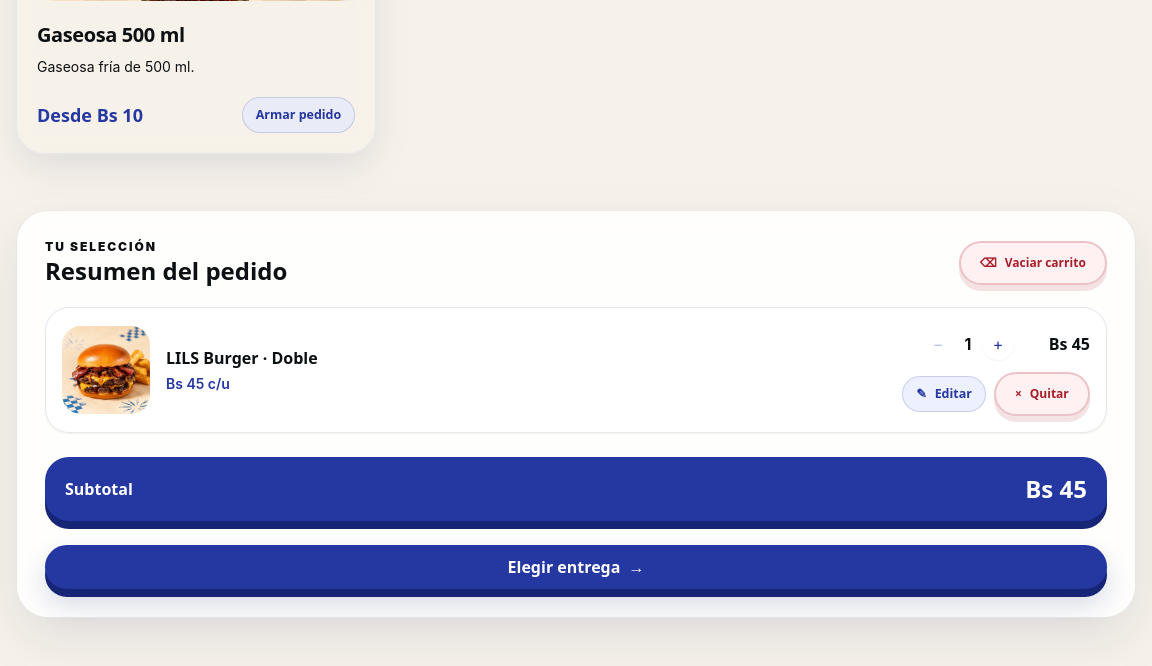
Test: OrderFlow: navegación móvil entre carrito y entrega › sube al inicio de las opciones después de elegir entrega
(page scrolled)
Step 1. Click the button "Elegir entrega →" → point(576, 567), box 45,545 -> 1107,589
(page scrolled)
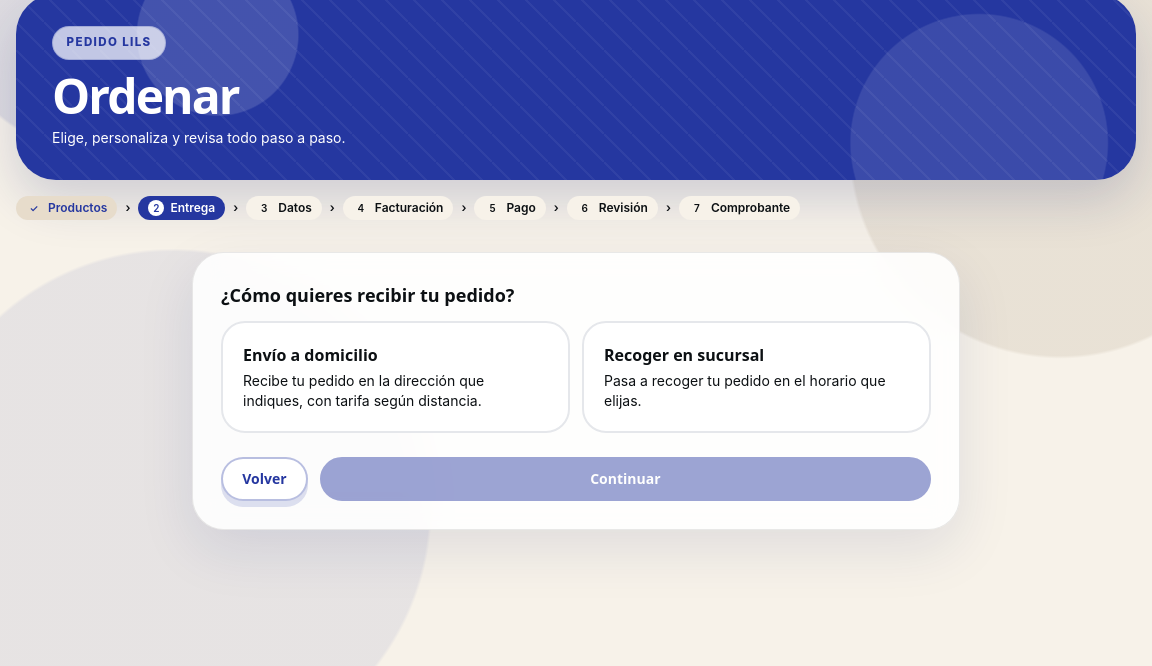
Result: the text "¿Cómo quieres recibir tu pedido?" is shown at 221,281 -> 514,309
